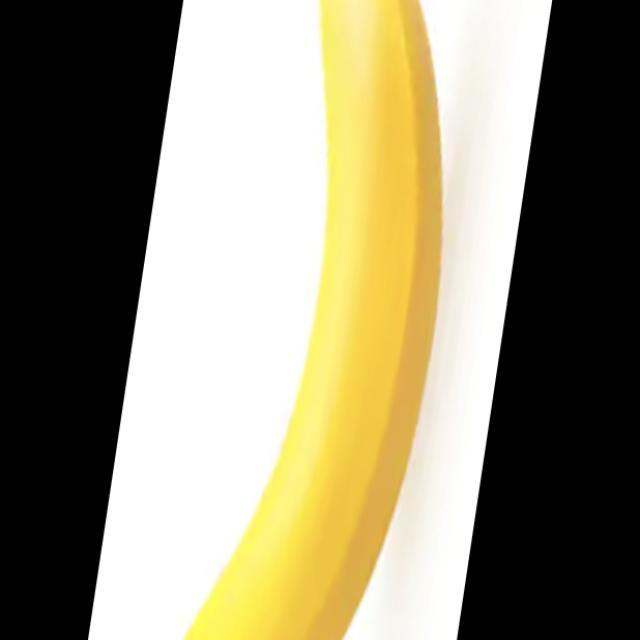Banana: (194, 9, 446, 640)
